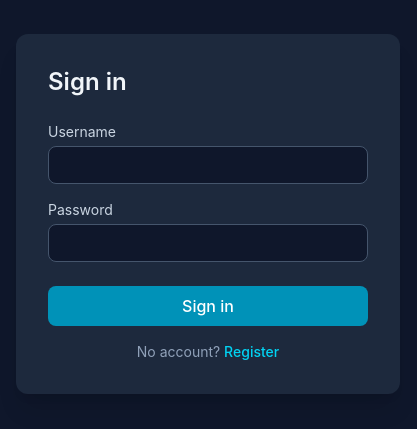
LoginPage › shows an error message when sign-in fails
The width and height of the screenshot is (417, 429).
Type "someone" into the field labelled "Username" at (208, 165), box [48, 146, 368, 184]
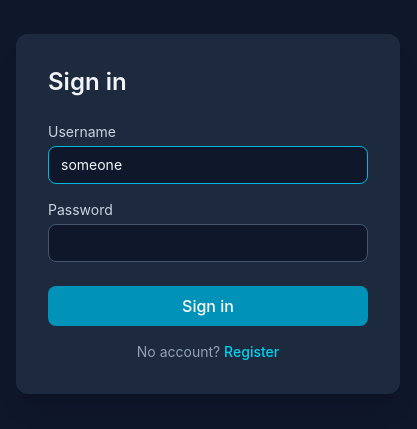
Type "wrong" into the password field labelled "Password" at (208, 243), box [48, 224, 368, 262]
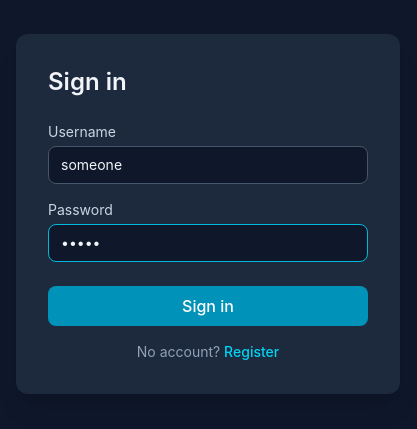
Click the button "Sign in" at (208, 306), box [48, 286, 368, 326]
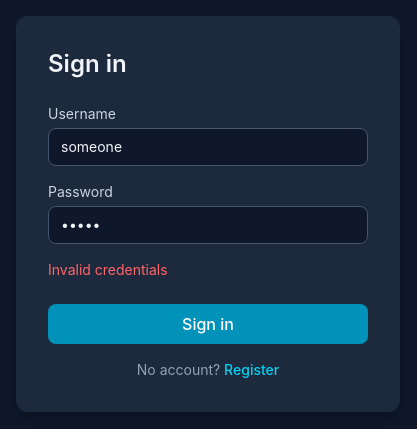
Now the message reads "Invalid credentials", box [48, 261, 168, 278]
